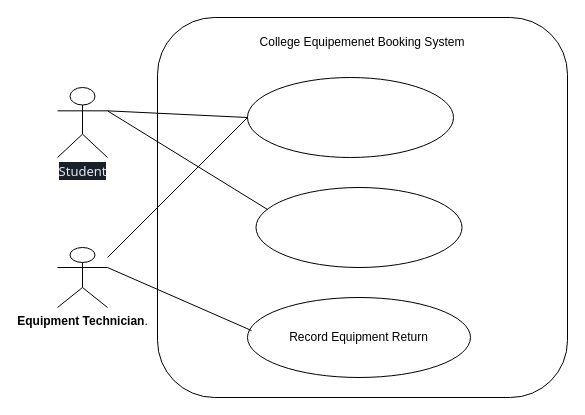
Some shapes in this 585 by 415 pixel diagram are drawn without their labels. Each missing label, with the box of its shape:
Create Booking: (246, 76, 454, 158)
View Equipment Availability: (255, 186, 462, 268)
